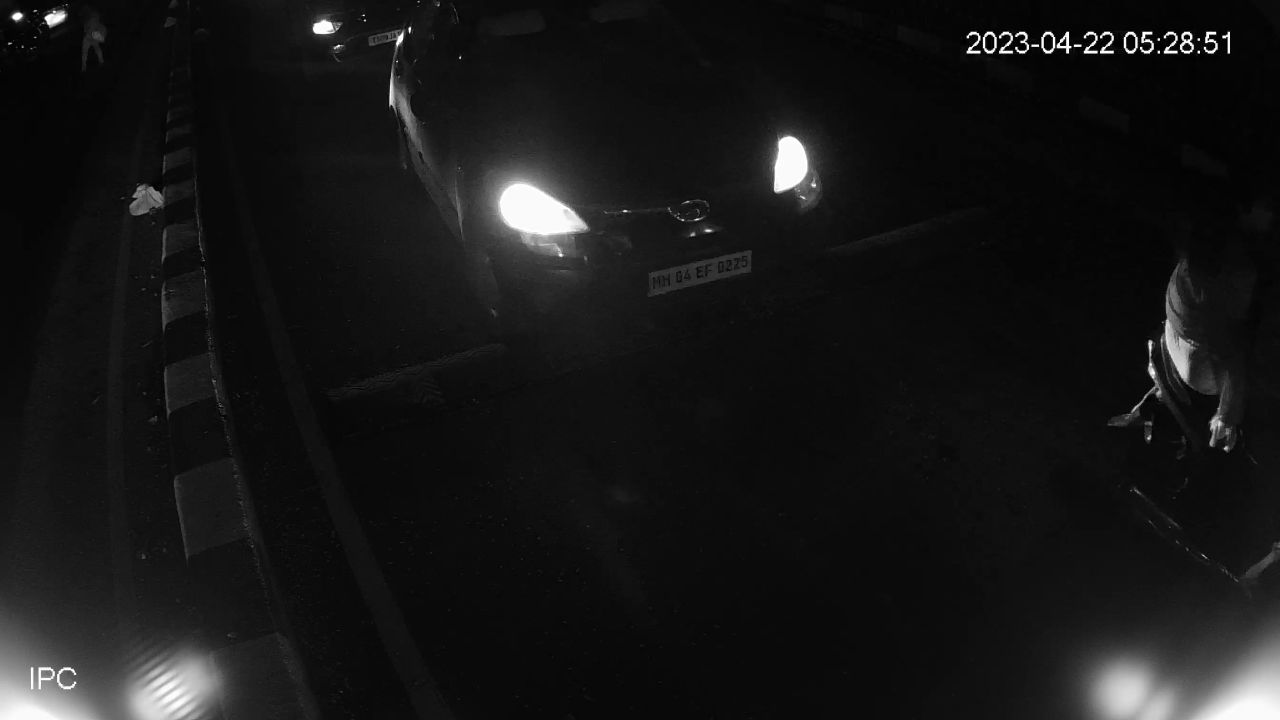license_plate: (645, 243, 761, 304)
